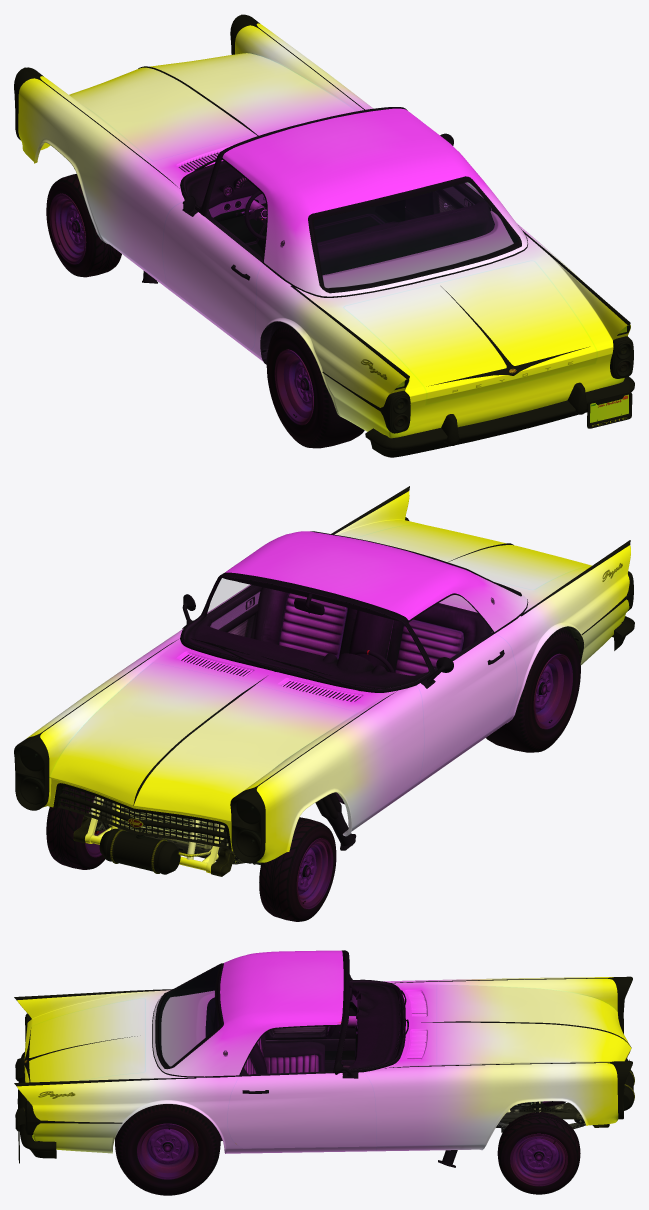
Rendered from peyote2.glb.
3 renders of one model, top to bottom at view 1: azimuth 30°, elevation 25°; view 2: azimuth 150°, elevation 25°; view 3: azimuth 270°, elevation 25°, orthographic. The views are drawn at different scales.
Parts seen in each view (by area): view 1: bodyshell, extra_2, boot, bonnet, extra_8, windscreen_r, door_dside_f, chassis, wheel_lr, bumper_r, misc_d, wheel_lf (+2 smaller); view 2: extra_8, bonnet, bodyshell, extra_2, chassis, misc_d, door_dside_f, boot, wheel_lr, wheel_lf, misc_h, window_lf (+5 smaller); view 3: bodyshell, bonnet, extra_2, extra_8, door_pside_f, boot, wheel_rr, chassis, wheel_rf, windscreen_r, window_rf, misc_d (+3 smaller).
Part boxes in pixels (<box>): bodyshell: <box>153,107,633,438</box>; extra_2: <box>221,108,527,297</box>; boot: <box>344,261,597,404</box>; bonnet: <box>14,14,372,289</box>; extra_8: <box>69,53,356,161</box>; windscreen_r: <box>312,180,518,290</box>; door_dside_f: <box>162,196,262,349</box>; chassis: <box>74,152,405,364</box>; wheel_lr: <box>266,323,364,448</box>; bumper_r: <box>365,376,634,457</box>; misc_d: <box>317,201,494,274</box>; wheel_lf: <box>46,174,121,277</box>; extra_8: <box>49,662,357,822</box>; bonnet: <box>14,629,424,873</box>; bodyshell: <box>153,486,633,786</box>; extra_2: <box>223,531,528,633</box>; chassis: <box>73,576,583,876</box>; misc_d: <box>253,587,492,675</box>; door_dside_f: <box>417,633,517,781</box>; boot: <box>356,524,591,589</box>; wheel_lr: <box>486,627,580,752</box>; wheel_lf: <box>259,817,336,921</box>; misc_h: <box>53,783,231,850</box>; window_lf: <box>410,595,493,670</box>; bodyshell: <box>14,950,436,1153</box>; bonnet: <box>364,976,632,1151</box>; extra_2: <box>152,950,344,1077</box>; extra_8: <box>436,985,631,1064</box>; door_pside_f: <box>227,1061,376,1148</box>; boot: <box>24,998,145,1082</box>; wheel_rr: <box>115,1104,220,1195</box>; chassis: <box>207,952,609,1137</box>; wheel_rf: <box>497,1112,580,1194</box>; windscreen_r: <box>157,965,220,1067</box>; window_rf: <box>241,1026,340,1075</box>; misc_d: <box>205,998,324,1075</box>.
Size of the model in its own units: 2.03 by 1.53 by 5.05.
Materials: 26 (26 with a texture image).
